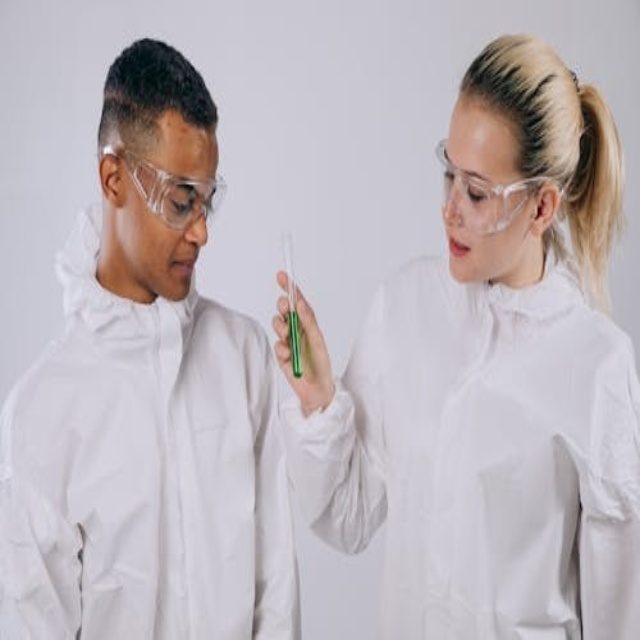Gafas: (436, 139, 560, 236), (106, 146, 226, 229)
Sin_guantes: (270, 267, 338, 407)
Sin_mascara: (159, 248, 198, 302), (444, 231, 484, 283)
